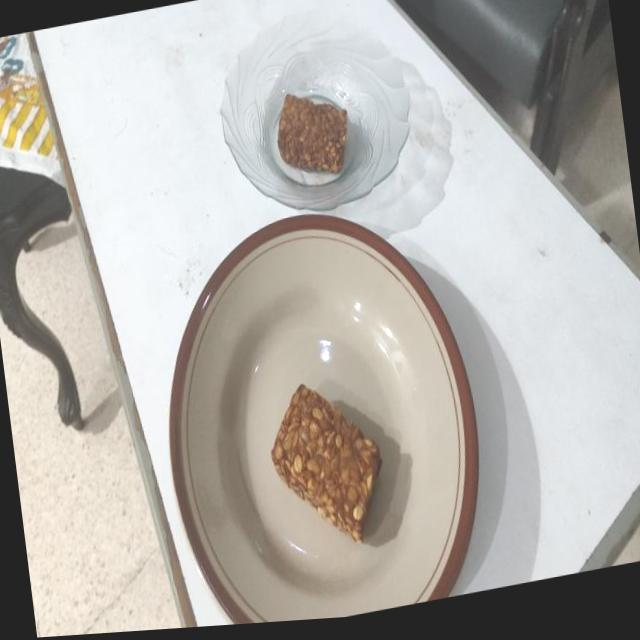tempe_goreng: (271, 384, 381, 542), (278, 94, 346, 172)
